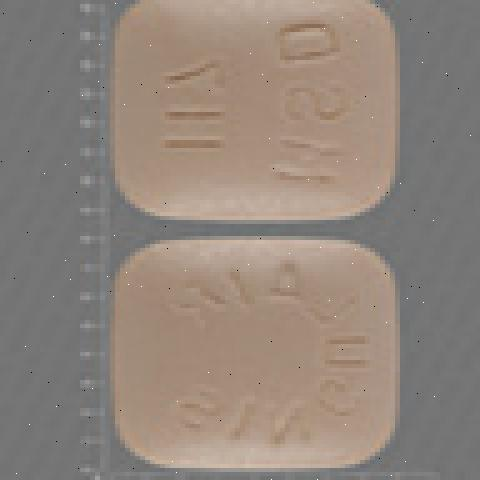Pill: (102, 230, 404, 474), (74, 5, 406, 222)
